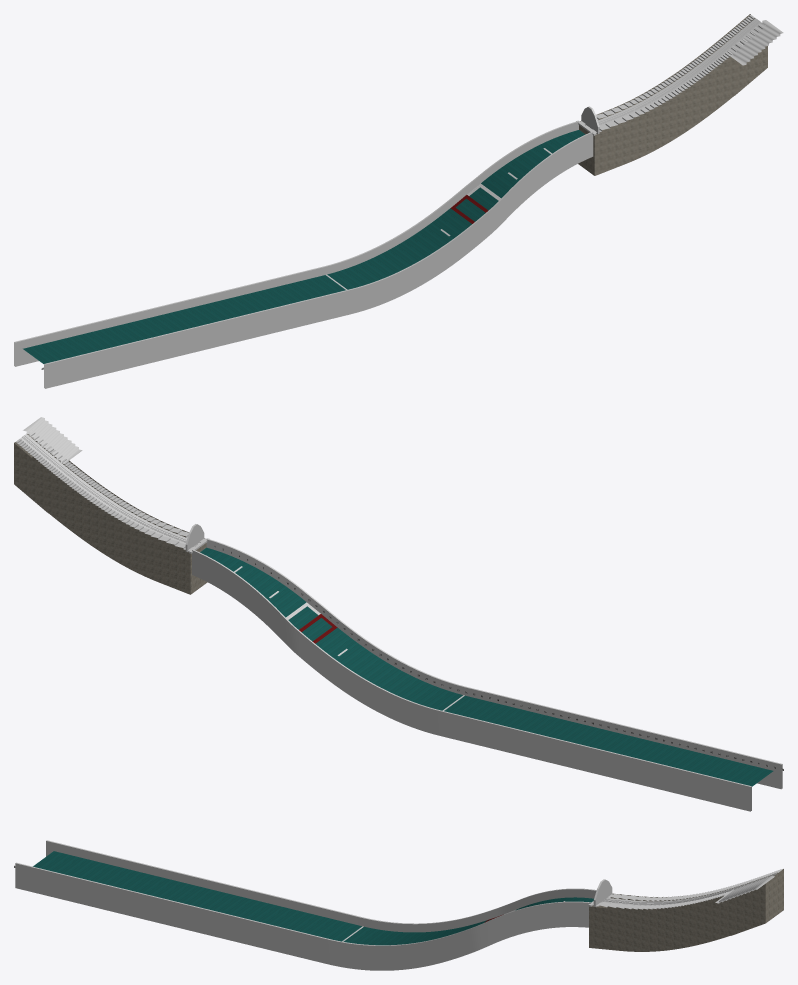
Rendered from Hill.fbx.
3 views of the same model, one above another, from view 1: azimuth 30°, elevation 25°; view 2: azimuth 150°, elevation 25°; view 3: azimuth 330°, elevation 25° (orthographic).
Parts seen in each view (by area): view 1: Landing_Area_Guardrail_R, Landing_Area, Inrun_Construction, Landing_Area_Guardrail_L, Inrun, Gate_Stairs_R, Inrun_Stairs_R, Inrun_Stairs_L; view 2: Landing_Area_Guardrail_L, Landing_Area, Inrun_Construction, Landing_Area_Guardrail_R, Inrun, Inrun_Stairs_R, Gate_Stairs_R, Inrun_Stairs_L; view 3: Landing_Area_Guardrail_R, Landing_Area, Inrun_Construction, Landing_Area_Guardrail_L, Inrun_Stairs_R, Inrun, Inrun_Stairs_L, Gate_Stairs_R, gate.
Boxes of the visible parts, x1,y1,x2,y2 form: Landing_Area_Guardrail_R: (44, 131, 593, 388); Landing_Area: (23, 130, 585, 363); Inrun_Construction: (578, 14, 767, 175); Landing_Area_Guardrail_L: (14, 121, 578, 366); Inrun: (585, 18, 761, 129); Gate_Stairs_R: (725, 20, 783, 65); Inrun_Stairs_R: (580, 15, 754, 124); Inrun_Stairs_L: (591, 25, 765, 132); Landing_Area_Guardrail_L: (192, 549, 751, 811); Landing_Area: (200, 547, 773, 786); Inrun_Construction: (14, 434, 207, 594); Landing_Area_Guardrail_R: (206, 538, 782, 789); Inrun: (20, 434, 199, 547); Inrun_Stairs_R: (15, 439, 193, 550); Gate_Stairs_R: (23, 417, 82, 463); Inrun_Stairs_L: (28, 430, 205, 542); Landing_Area_Guardrail_R: (15, 862, 591, 970); Landing_Area: (33, 851, 593, 945); Inrun_Construction: (589, 869, 783, 951); Landing_Area_Guardrail_L: (46, 840, 596, 932); Inrun_Stairs_R: (607, 869, 782, 901); Inrun: (601, 873, 777, 905); Inrun_Stairs_L: (592, 891, 730, 909); Gate_Stairs_R: (715, 875, 774, 903); gate: (588, 879, 612, 906).
Size of the model in its own units: 9475 by 2232 by 820.
